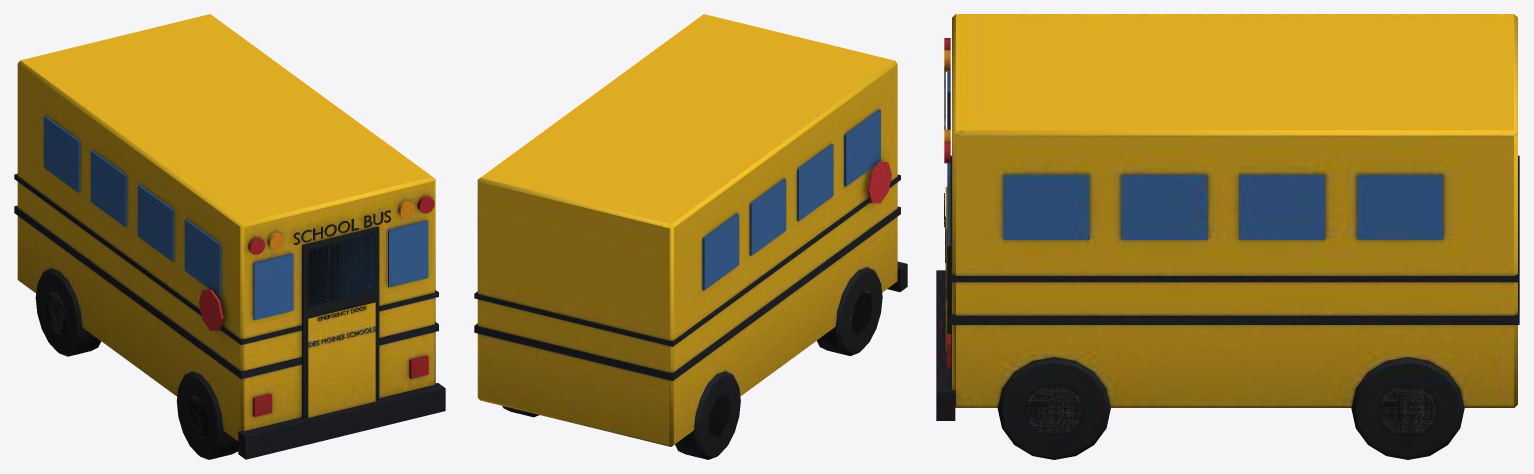
The model's file is bus_escolar.glb.
3 views of the same model, side by side, from view 1: azimuth 30°, elevation 25°; view 2: azimuth 150°, elevation 25°; view 3: azimuth 270°, elevation 25° (orthographic). The views are drawn at different scales.
Parts seen in each view (by area): view 1: bus_escolar; view 2: bus_escolar; view 3: bus_escolar.
Boxes of the visible parts, x1,y1,x2,y2 form: bus_escolar: [14, 14, 445, 459]; bus_escolar: [474, 14, 907, 459]; bus_escolar: [936, 14, 1519, 459].
Bounding box in the file's own units: 1.89 × 2.3 × 3.71.
1 material, 1 textured.
